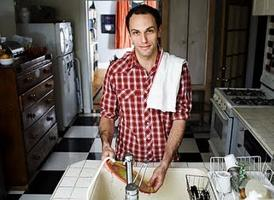person: (102, 8, 193, 192)
